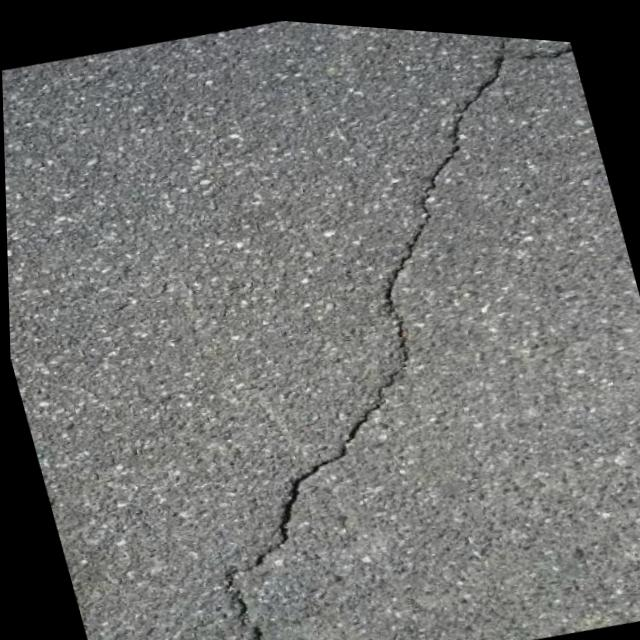Crack: (65, 4, 640, 640)
